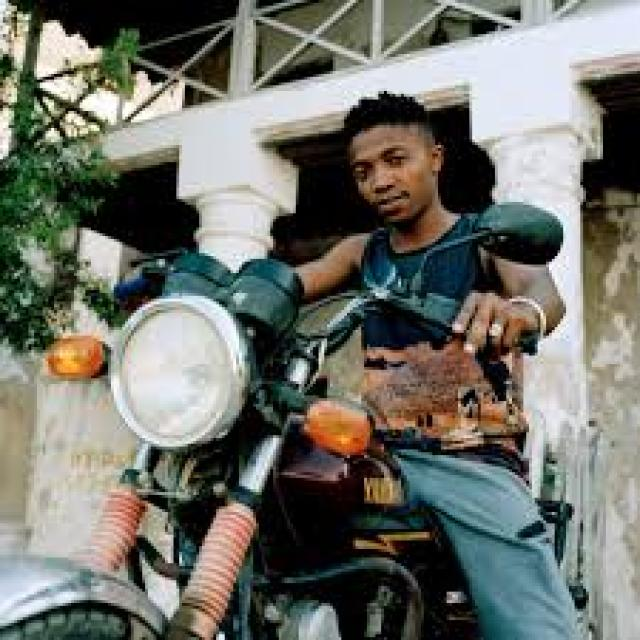bodaboda: (0, 168, 600, 640)
